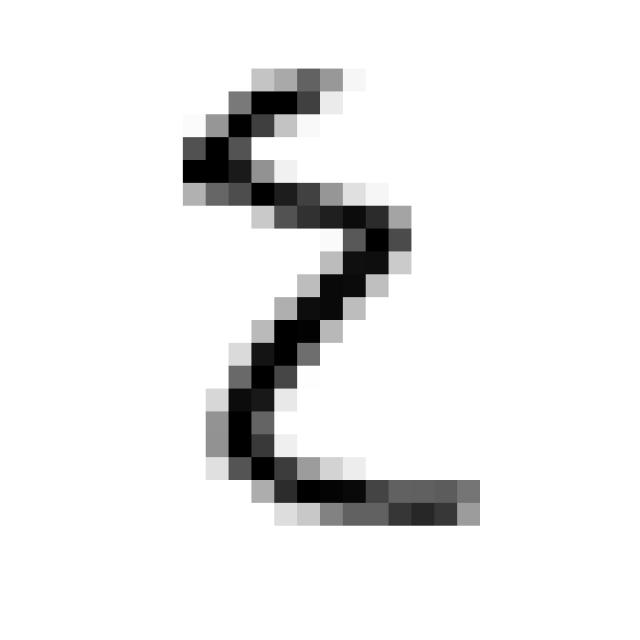4 -four-: (162, 50, 504, 543)
